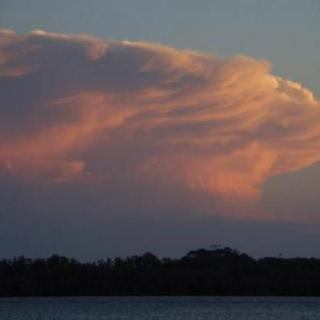Cumulonimbus: (0, 20, 320, 224)
